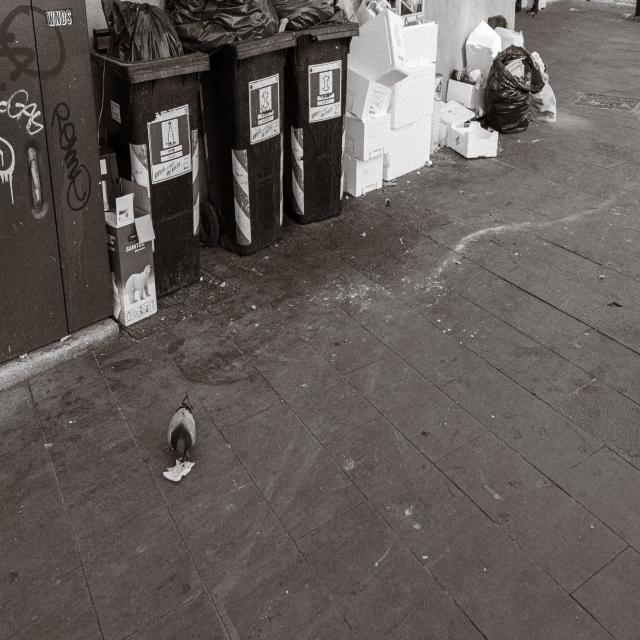trash: (500, 66, 531, 119)
